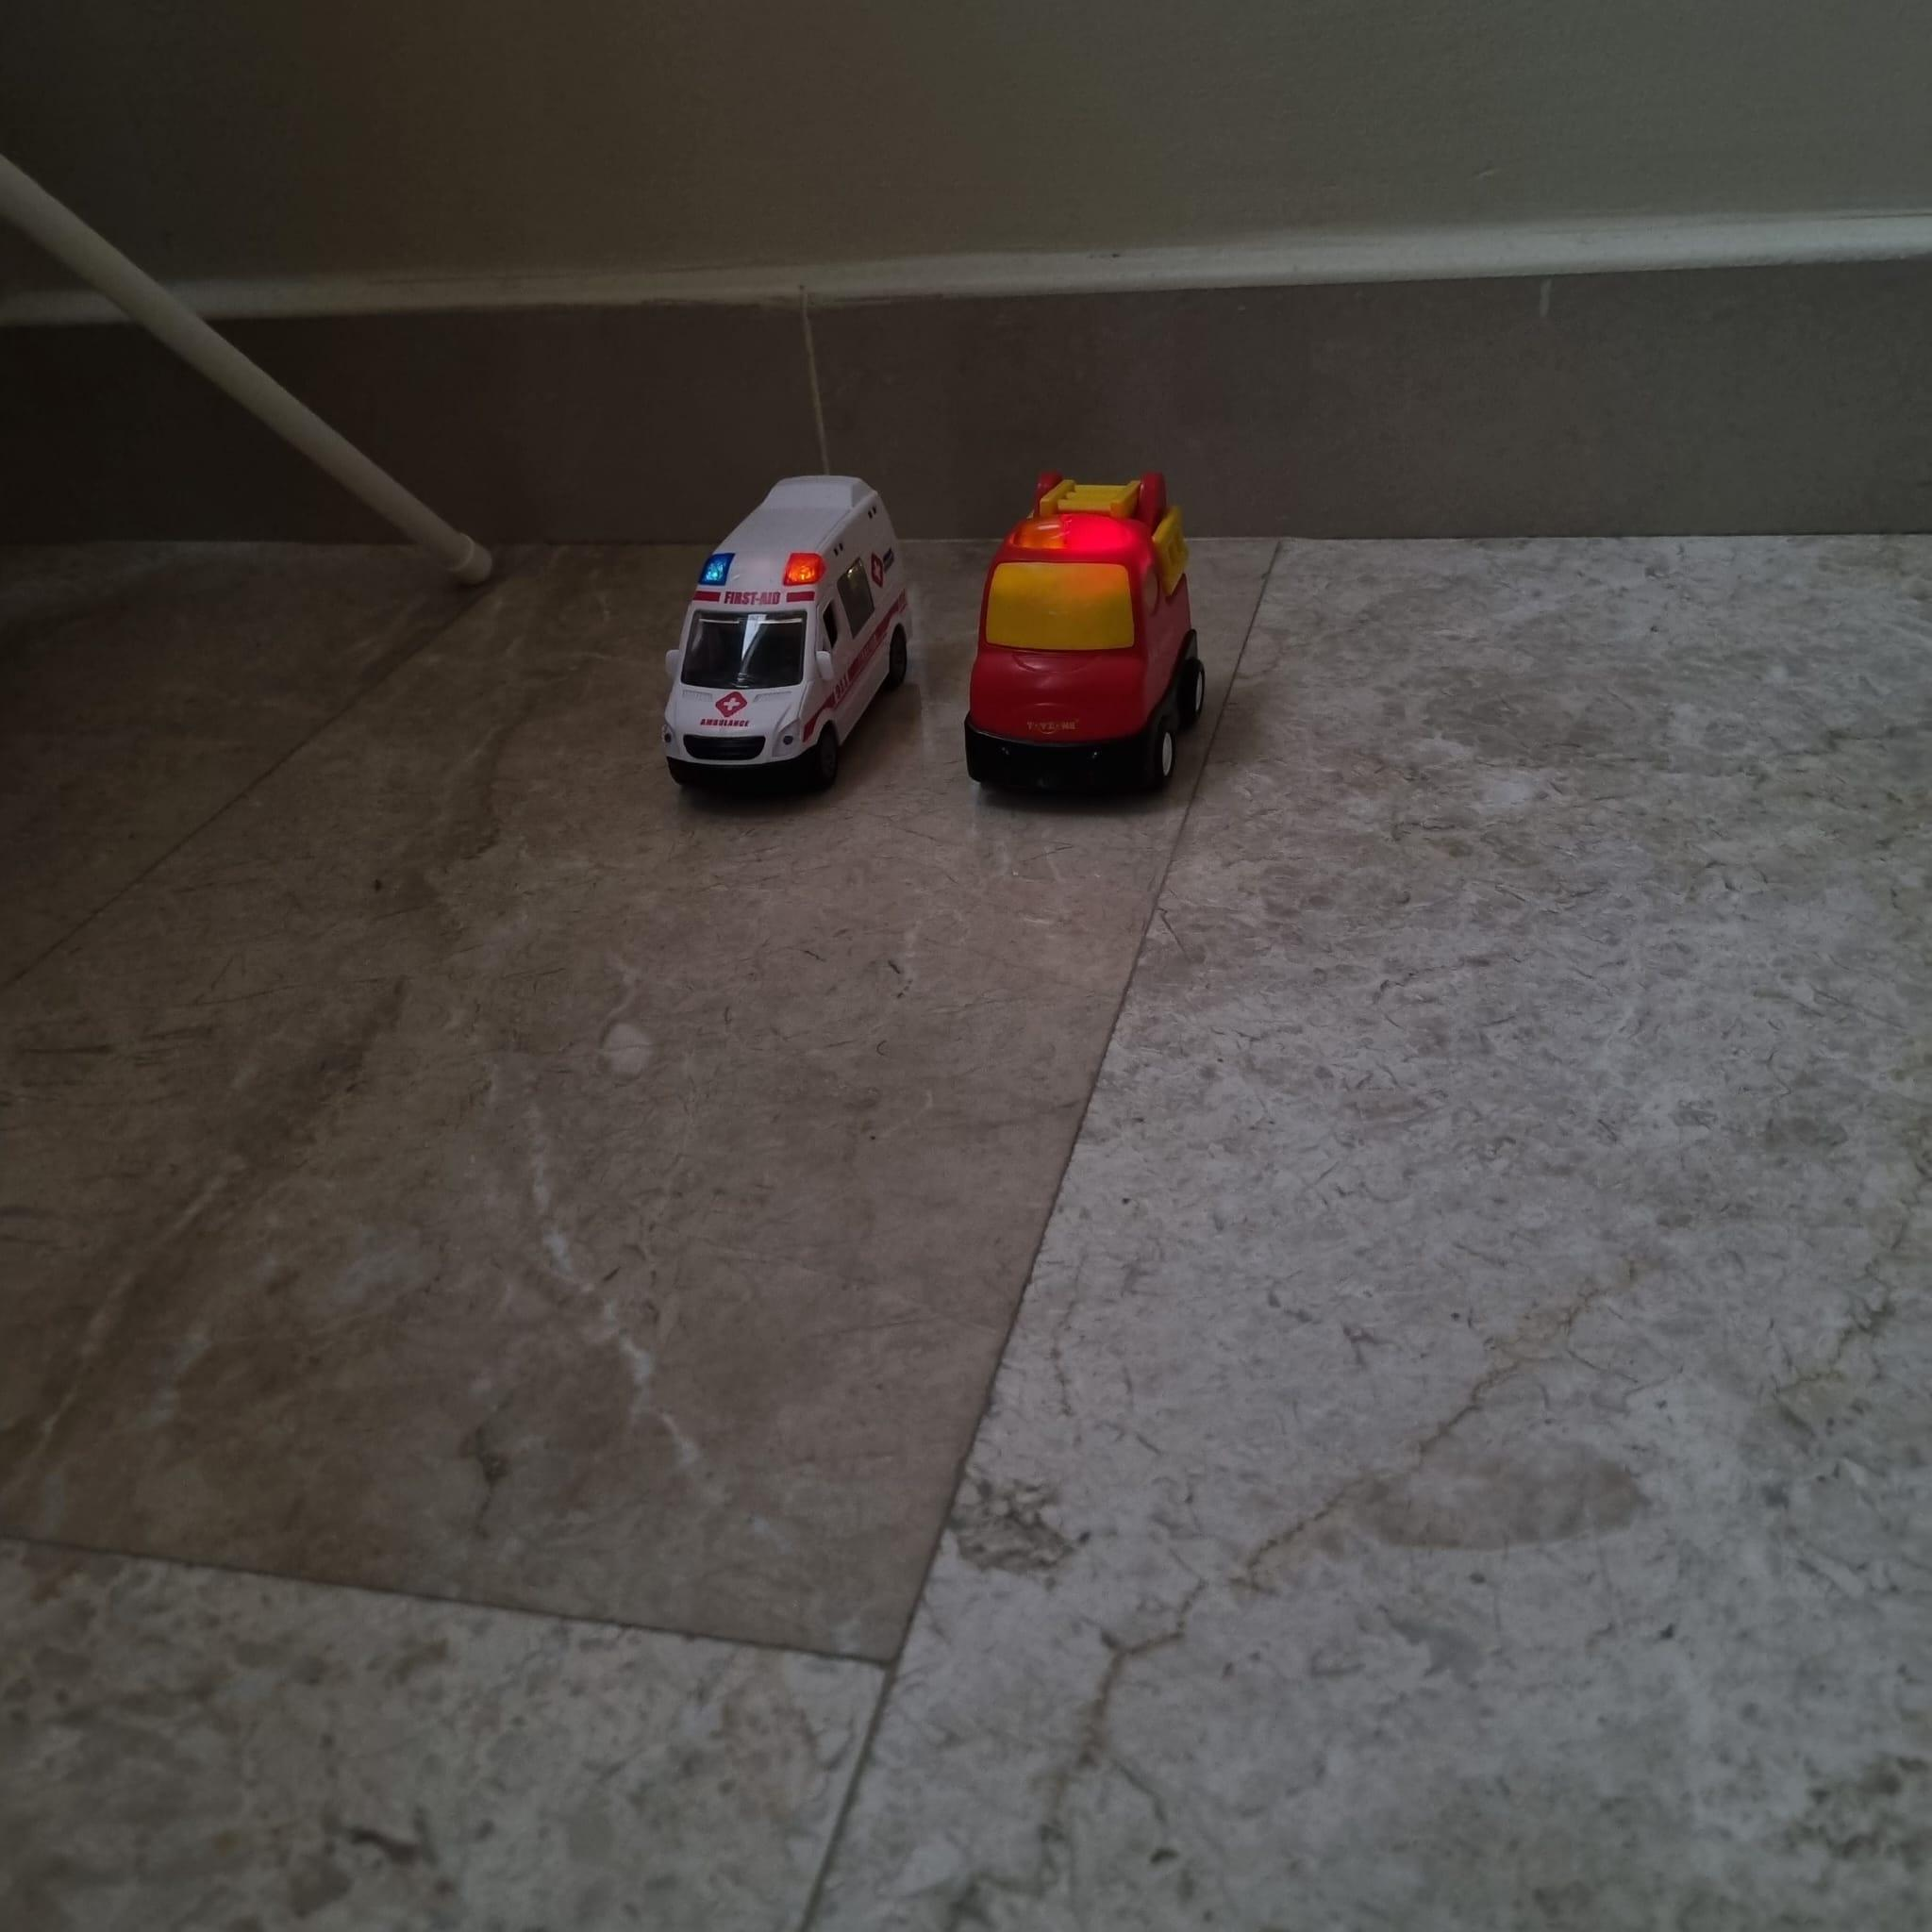ambulance_on: (658, 474, 911, 801)
firetruck_on: (961, 476, 1208, 798)
